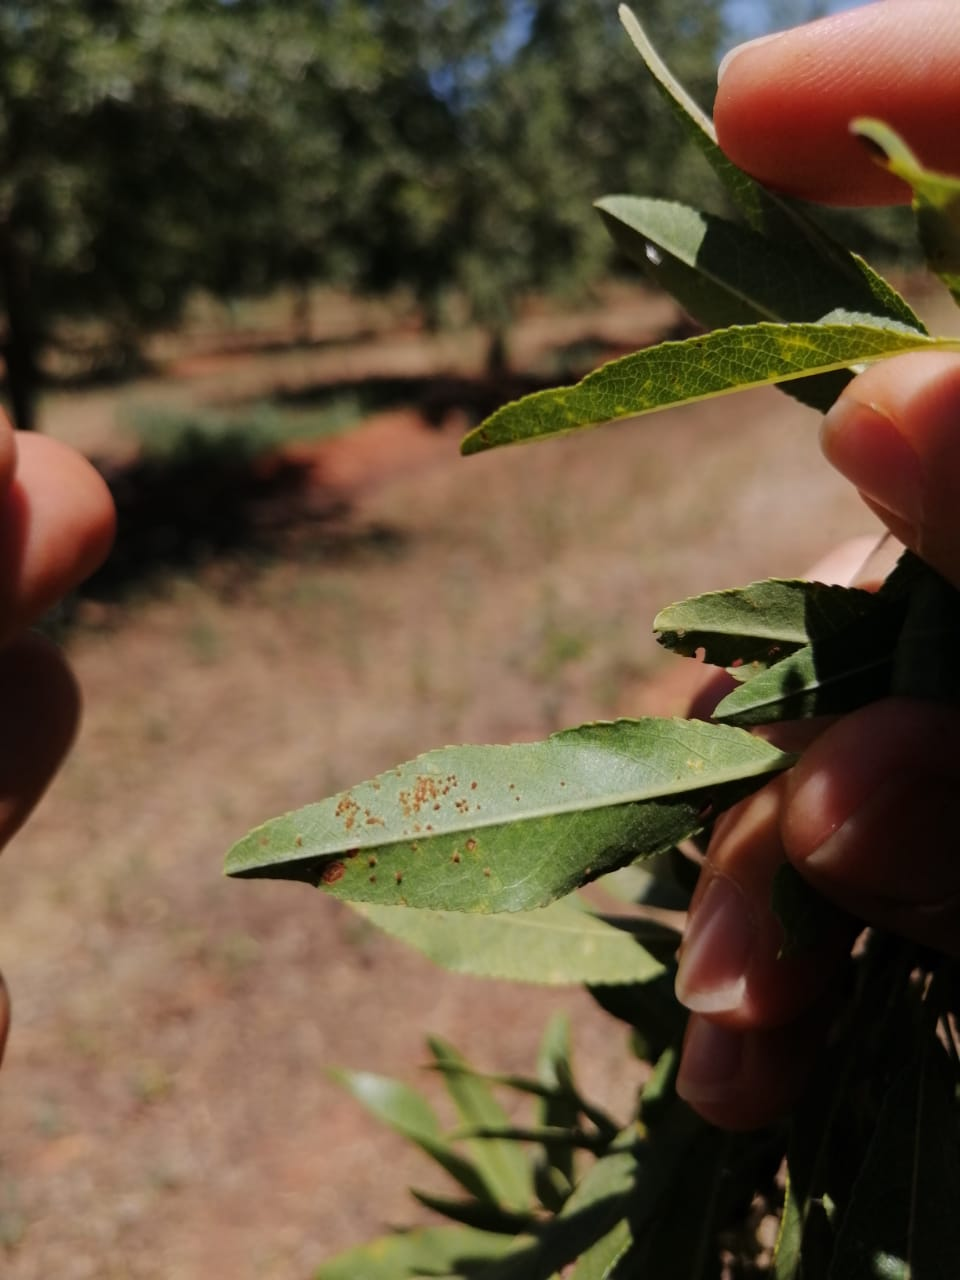rouille: (224, 718, 786, 917), (459, 323, 917, 461)
